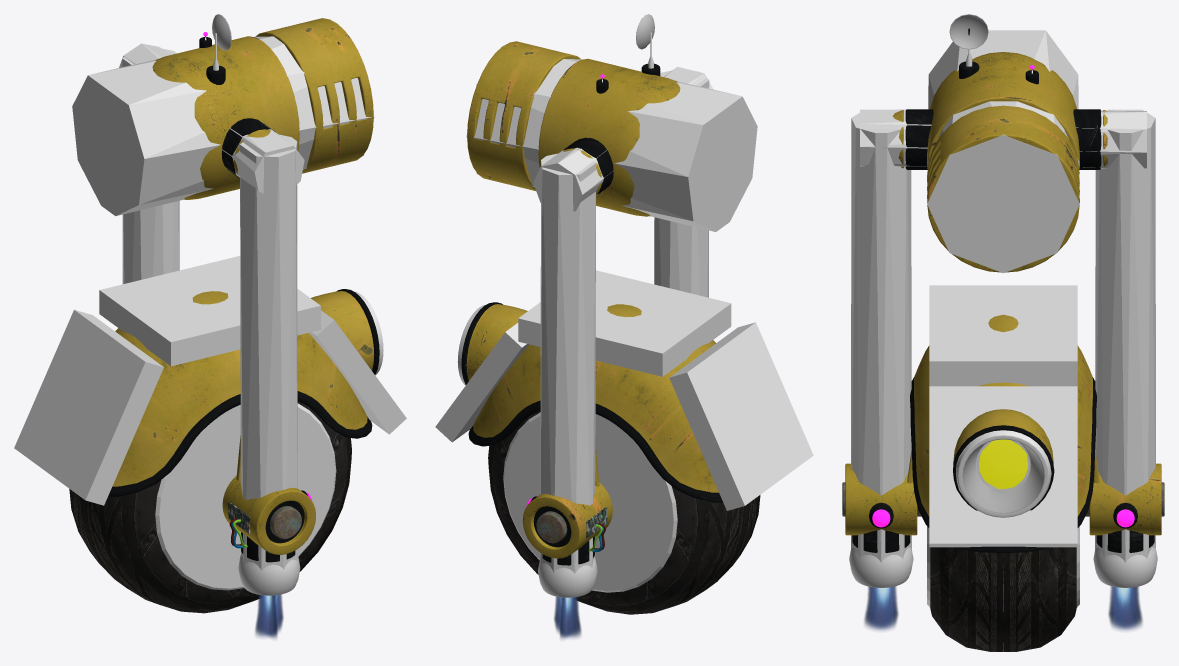
3 renders of one model, left to right at view 1: azimuth 30°, elevation 25°; view 2: azimuth 150°, elevation 25°; view 3: azimuth 270°, elevation 25°, orthographic. The views are drawn at different scales.
Parts seen in each view (by area): view 1: RobotMudflapShape, RobotHeadShape, RobotRightLegShape, RobotMudflap, RobotTyre_Shape, Tyre, BackHead, RobotFace, Robot_Legs, RobotLeftLegShape, RobotHeadlightFrame, Connector (+2 smaller); view 2: RobotMudflapShape, RobotHeadShape, RobotLeftLegShape, RobotMudflap, RobotTyre_Shape, Tyre, BackHead, RobotFace, Robot_Legs, RobotRightLegShape, RobotHeadlightFrame, Connector (+2 smaller); view 3: RobotMudflapShape, RobotHeadShape, RobotLeftLegShape, RobotRightLegShape, Tyre, Robot_Legs, RobotHeadlightFrame, BackHead, RobotMudflap, RobotFace, RobotHeadlightGlass, Connector (+5 smaller).
Part boxes in pixels (x1,y1,x2,y2): RobotMudflapShape: [14, 256, 406, 505]; RobotHeadShape: [72, 23, 374, 216]; RobotRightLegShape: [240, 134, 297, 570]; RobotMudflap: [108, 291, 372, 496]; RobotTyre_Shape: [155, 403, 336, 590]; Tyre: [69, 401, 351, 613]; BackHead: [152, 36, 299, 199]; RobotFace: [255, 18, 373, 173]; Robot_Legs: [222, 476, 315, 595]; RobotLeftLegShape: [122, 48, 179, 284]; RobotHeadlightFrame: [311, 289, 383, 375]; Connector: [221, 118, 274, 178]; RobotMudflapShape: [435, 270, 813, 510]; RobotHeadShape: [466, 46, 757, 231]; RobotLeftLegShape: [540, 153, 595, 573]; RobotMudflap: [468, 304, 722, 502]; RobotTyre_Shape: [503, 412, 677, 592]; Tyre: [488, 410, 760, 614]; BackHead: [538, 58, 680, 216]; RobotFace: [467, 41, 580, 190]; Robot_Legs: [522, 482, 612, 597]; RobotRightLegShape: [654, 70, 709, 297]; RobotHeadlightFrame: [457, 302, 527, 385]; Connector: [563, 137, 613, 194]; RobotMudflapShape: [929, 285, 1077, 547]; RobotHeadShape: [860, 30, 1146, 272]; RobotLeftLegShape: [1095, 109, 1156, 568]; RobotRightLegShape: [850, 113, 911, 568]; Tyre: [930, 547, 1076, 651]; Robot_Legs: [845, 463, 1161, 587]; RobotHeadlightFrame: [953, 409, 1054, 517]; BackHead: [927, 52, 1079, 168]; RobotMudflap: [910, 314, 1096, 552]; RobotFace: [927, 105, 1079, 272]; RobotHeadlightGlass: [962, 439, 1044, 513]; Connector: [905, 109, 1101, 169].
Bounding box in the file's own units: 0.6309 × 1.13 × 0.5276.
Materials: 20 (8 with a texture image).
